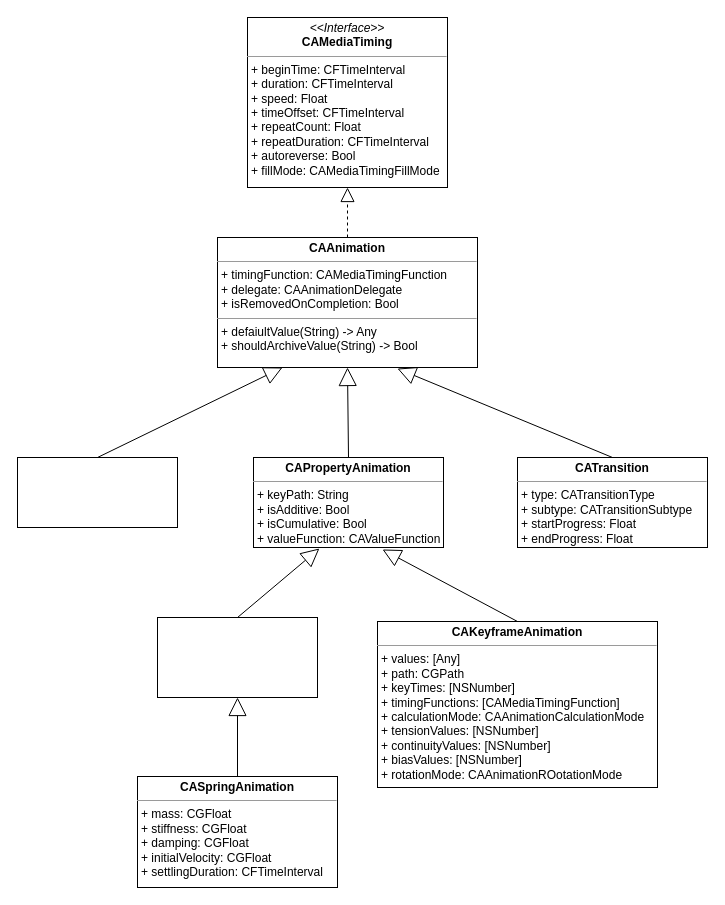
This 725x905 diagram has some shape labels left out. The box of each missing label's shape, as (x1, y1, x2, y2) in pixels:
CAAnimationGroup + animations: [CAAnimation]: (16, 456, 178, 528)
CABasicAnimation + fromValue: Any + toValue: Any + byValue: Any: (156, 616, 318, 698)
